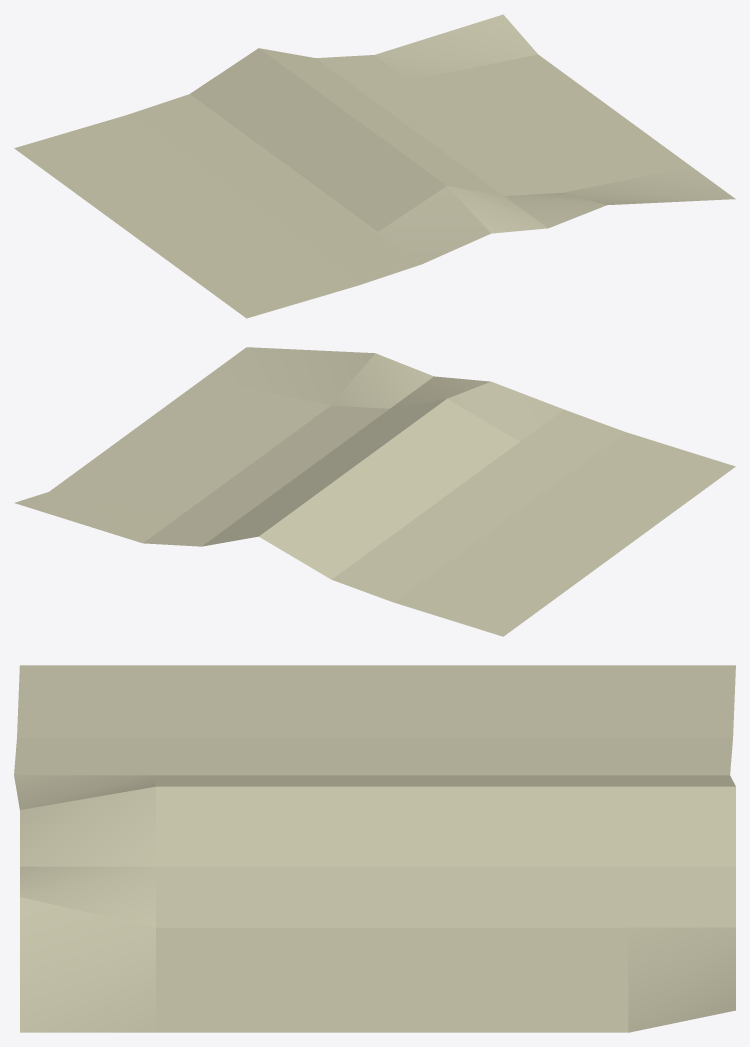
File: paper.glb
The picture shows the model from 3 angles, top to bottom: view 1: azimuth 30°, elevation 25°; view 2: azimuth 150°, elevation 25°; view 3: azimuth 270°, elevation 25°; orthographic projection. The views are drawn at different scales.
Parts seen in each view (by area): view 1: Plane_garbage_0; view 2: Plane_garbage_0; view 3: Plane_garbage_0.
Boxes of the visible parts, <box> form: Plane_garbage_0: <box>14,14,735,318</box>; Plane_garbage_0: <box>14,347,735,636</box>; Plane_garbage_0: <box>14,665,735,1032</box>.
Bounding box in the file's own units: 14.26 × 1.13 × 11.84.
